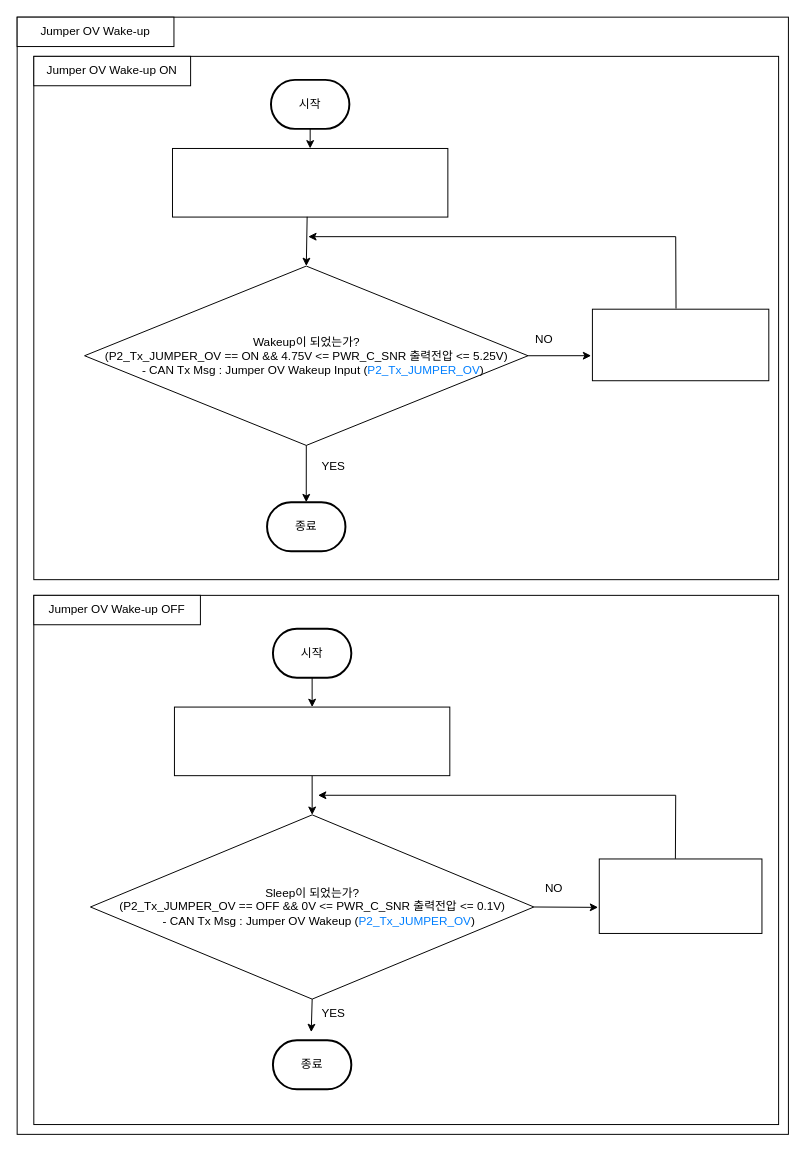
Some shapes in this 806 by 1152 pixel diagram are drawn without their labels. The box of each missing label's shape, as (x1, y1, x2, y2) in pixels:
[Jumper OV 동작 확인] 1. 전압을 순차적으로 감소 - B+LDC = 14.4V -> 14.2V -> 14.0V: (598, 858, 762, 933)
[Jumper OV 동작 확인] 1. 전압을 순차적으로 증가 - B+LDC = 13.8V -> 14.0V -> 14.2V -> 14.4V: (591, 308, 769, 381)
[검사 조건 설정] 1. 전압 인가 - B+BATT, LATCH SEN = 13.8V - B+LDC = 14.4V: (173, 706, 450, 776)
[검사 조건 설정] 1. 전압 인가 - B+BATT, LATCH SEN, B+LDC = 13.8V: (172, 147, 448, 217)
